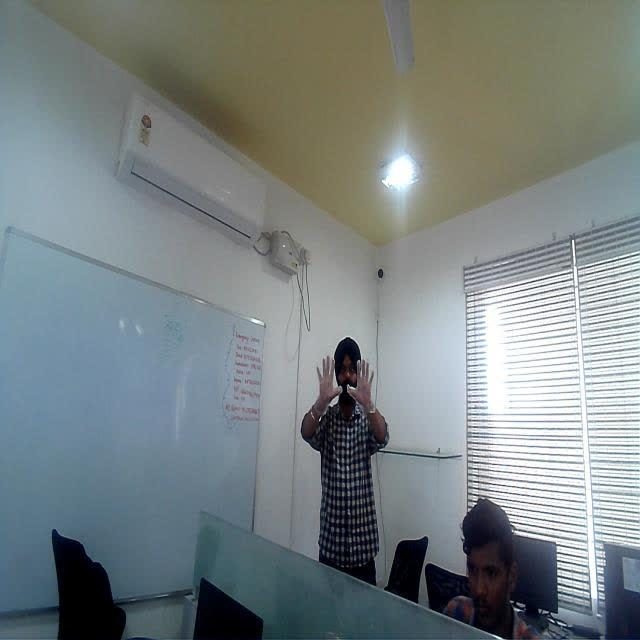with_gloves: (342, 358, 390, 413), (312, 354, 346, 404), (0, 0, 1, 1)
